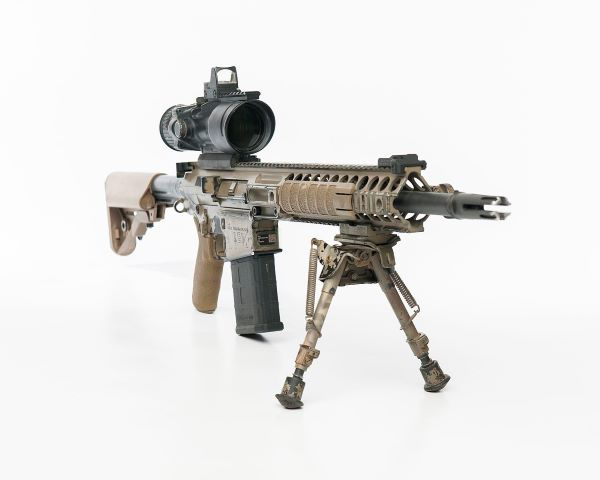rifle: (105, 63, 514, 414)
